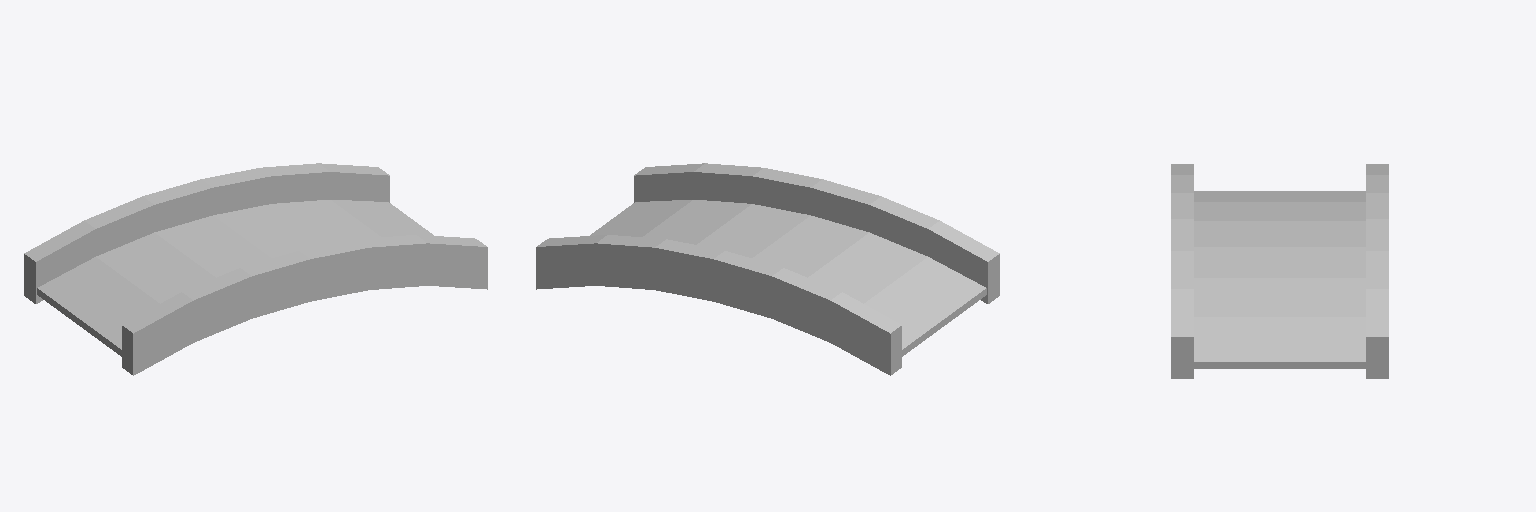
File: Wood Bridge Collider .obj
3 views of the same model, side by side, from view 1: azimuth 30°, elevation 25°; view 2: azimuth 150°, elevation 25°; view 3: azimuth 270°, elevation 25° (orthographic).
Visible parts, largest first — view 1: 立方体.002; view 2: 立方体.002; view 3: 立方体.002.
Boxes of the visible parts, x1=… form: 立方体.002: x1=24, y1=163, x2=487, y2=375; 立方体.002: x1=536, y1=163, x2=999, y2=375; 立方体.002: x1=1171, y1=164, x2=1388, y2=378.
Bounding box in the file's own units: 26.2 × 5.2 × 14.